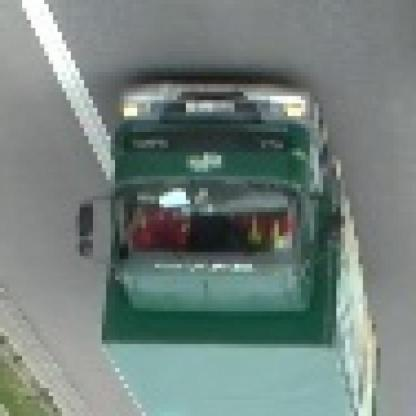truck: (81, 81, 386, 416)
